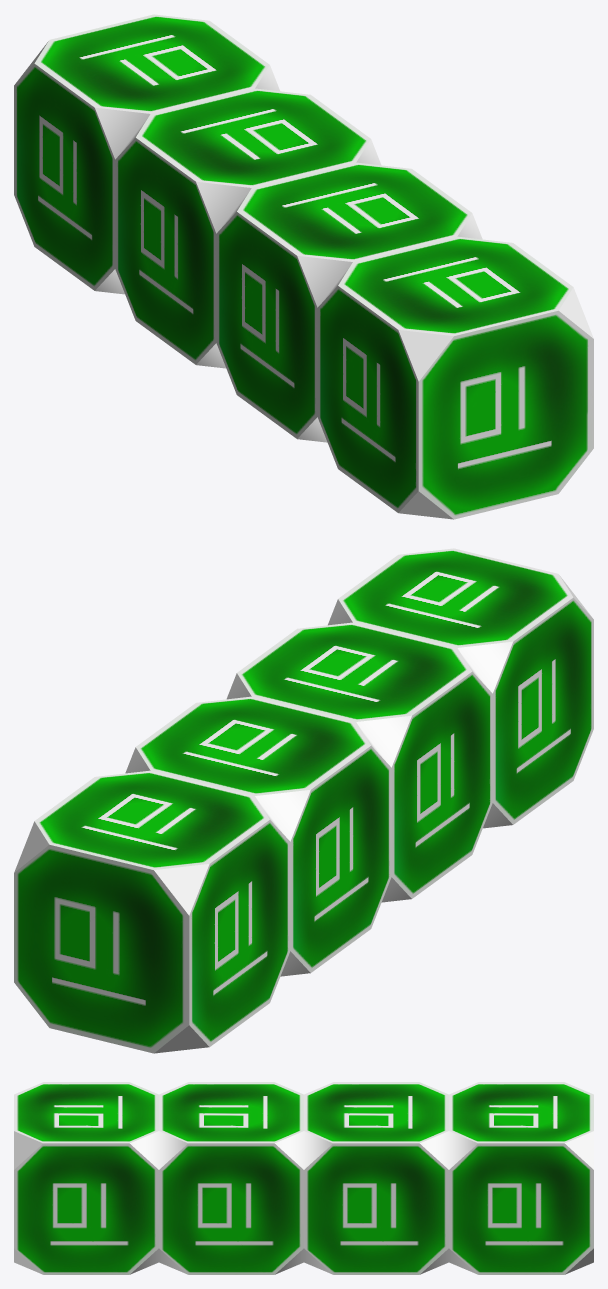
The model's file is MG-ChJ-CS-01FangKuai-4.FBX.
3 renders of one model, top to bottom at view 1: azimuth 30°, elevation 25°; view 2: azimuth 150°, elevation 25°; view 3: azimuth 270°, elevation 25°, orthographic. The views are drawn at different scales.
Parts seen in each view (by area): view 1: MG-ChJ-CS-01FangKuai-4; view 2: MG-ChJ-CS-01FangKuai-4; view 3: MG-ChJ-CS-01FangKuai-4.
Part boxes in pixels (x1,y1,x2,y2): MG-ChJ-CS-01FangKuai-4: (14,14,593,519); MG-ChJ-CS-01FangKuai-4: (14,548,593,1053); MG-ChJ-CS-01FangKuai-4: (14,1082,593,1274).
Size of the model in its own units: 39.37 by 39.37 by 157.
